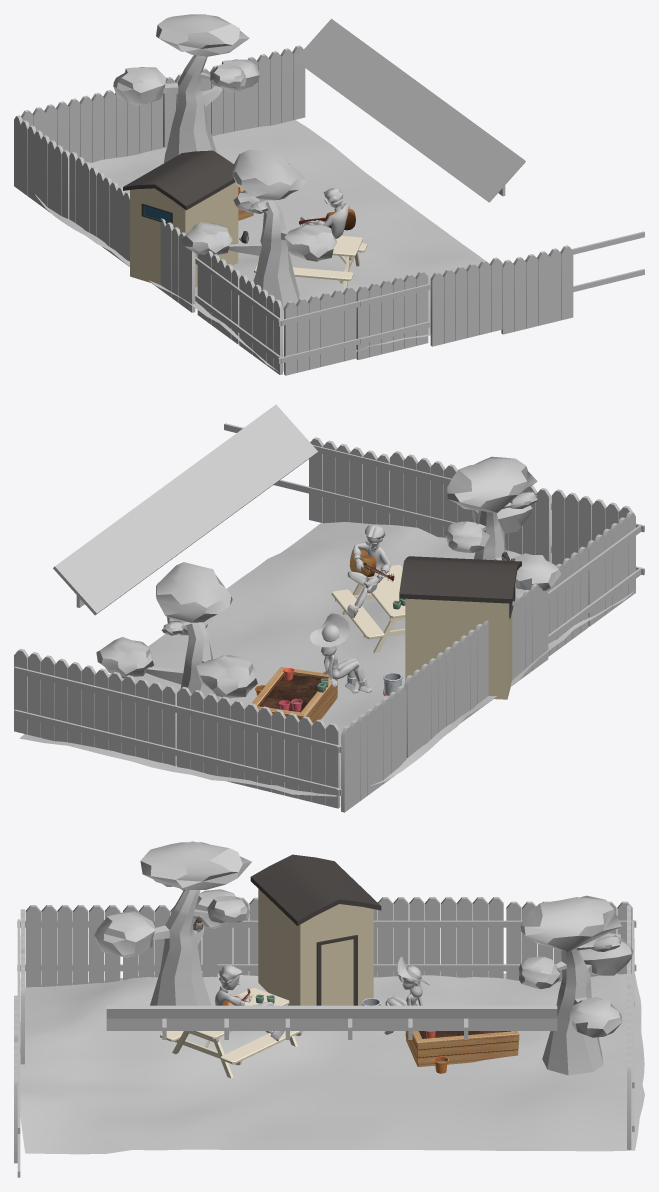
File: backyard setting.fbx
The picture shows the model from 3 angles, top to bottom: view 1: azimuth 30°, elevation 25°; view 2: azimuth 150°, elevation 25°; view 3: azimuth 270°, elevation 25°; orthographic projection. The views are drawn at different scales.
Parts seen in each view (by area): view 1: backyard__grass, ledgeOfHouse, tree_1, tree, shed, fenbce_2, fenbce_6, fenbce_9, fenbce_11, fenbce_8, fenbce_4_2, fenbce_4 (+11 smaller); view 2: backyard__grass, ledgeOfHouse, shed, fenbce_2, fenbce_6, tree_1, tree, fenbce_4, fenbce, fenbce_11, fenbce_9, fenbce_4_2 (+15 smaller); view 3: backyard__grass, shed, tree_1, tree, ledgeOfHouse, fenbce_4, fenbce_3_2, garden_box, fenbce_7_2, Patio_Table, fenbce, fenbce_2_2 (+7 smaller).
Boxes of the visible parts, <box> form: backyard__grass: <box>35,120,489,371</box>; ledgeOfHouse: <box>295,19,525,202</box>; tree_1: <box>113,14,259,162</box>; tree: <box>181,149,336,310</box>; shed: <box>123,150,238,287</box>; fenbce_2: <box>21,90,162,162</box>; fenbce_6: <box>163,45,305,147</box>; fenbce_9: <box>430,257,502,346</box>; fenbce_11: <box>501,245,573,334</box>; fenbce_8: <box>356,271,428,359</box>; fenbce_4_2: <box>284,286,355,375</box>; fenbce_4: <box>69,152,129,266</box>; backyard__grass: <box>19,522,634,796</box>; ledgeOfHouse: <box>53,404,317,615</box>; shed: <box>399,556,521,699</box>; fenbce_2: <box>177,686,340,808</box>; fenbce_6: <box>14,648,177,766</box>; tree_1: <box>96,562,257,700</box>; tree: <box>446,456,560,590</box>; fenbce_4: <box>404,620,493,757</box>; fenbce: <box>341,686,406,812</box>; fenbce_11: <box>309,437,389,524</box>; fenbce_9: <box>390,451,468,537</box>; fenbce_4_2: <box>551,489,632,565</box>; backyard__grass: <box>20,971,644,1154</box>; shed: <box>250,854,381,1005</box>; tree_1: <box>519,895,633,1075</box>; tree: <box>94,841,251,1005</box>; ledgeOfHouse: <box>106,1005,557,1039</box>; fenbce_4: <box>373,897,503,978</box>; fenbce_3_2: <box>25,905,120,987</box>; garden_box: <box>405,1031,519,1066</box>; fenbce_7_2: <box>123,905,217,980</box>; Patio_Table: <box>160,988,303,1078</box>; fenbce: <box>506,901,632,981</box>; fenbce_2_2: <box>217,897,258,975</box>.
Size of the model in its own units: 7905 by 3102 by 9585.
